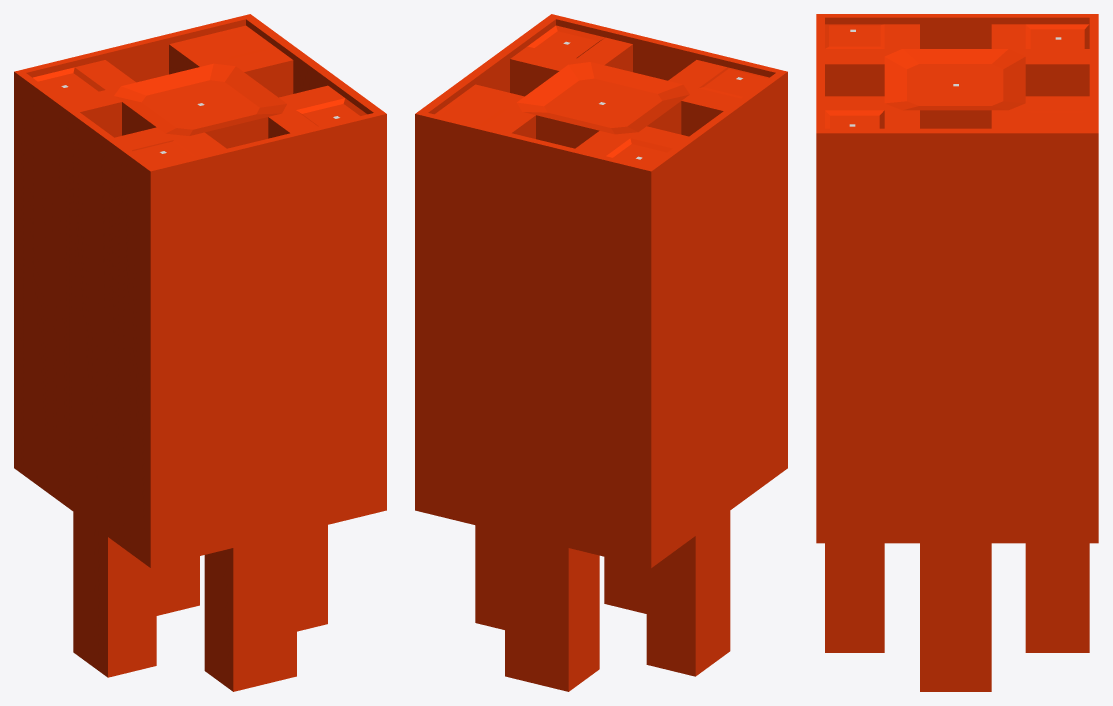
File: level-01.glb
3 views of the same model, side by side, from view 1: azimuth 30°, elevation 25°; view 2: azimuth 150°, elevation 25°; view 3: azimuth 270°, elevation 25° (orthographic). The views are drawn at different scales.
Parts seen in each view (by area): view 1: Plane; view 2: Plane; view 3: Plane.
Boxes of the visible parts, <box> form: Plane: <box>14,14,386,691</box>; Plane: <box>415,14,787,691</box>; Plane: <box>816,14,1098,691</box>.
Size of the model in its own units: 100 by 220 by 100.
